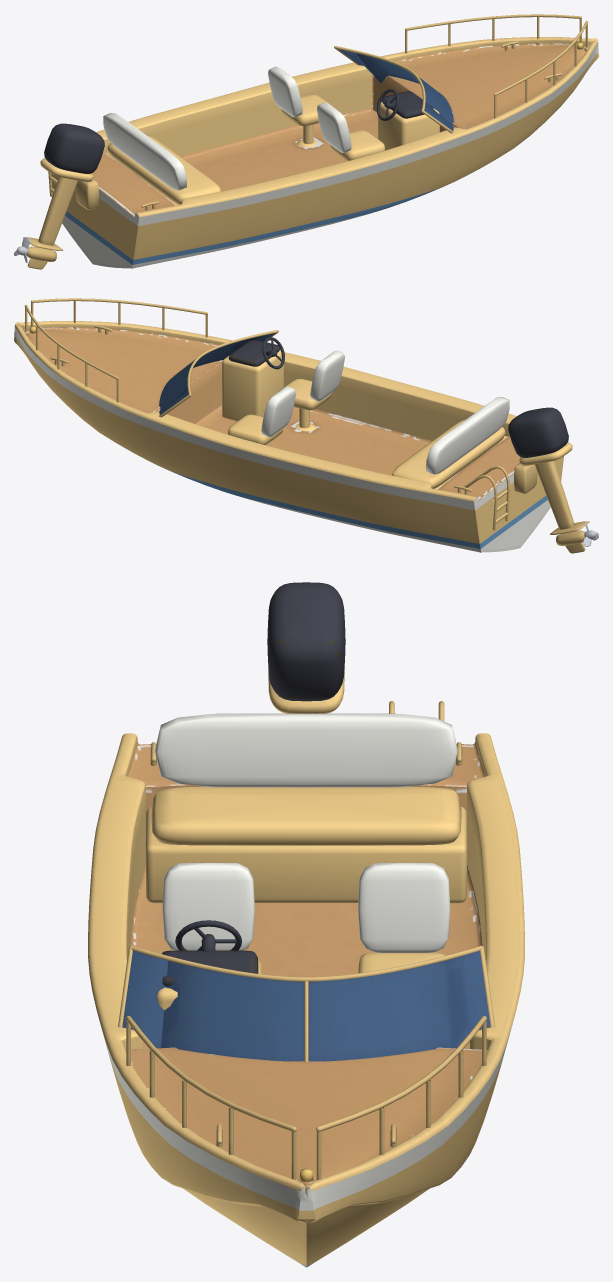
The model's file is lancha-ventura-210-comfort-2014.glb.
The picture shows the model from 3 angles, top to bottom: view 1: azimuth 30°, elevation 25°; view 2: azimuth 150°, elevation 25°; view 3: azimuth 270°, elevation 25°; orthographic projection. The views are drawn at different scales.
Visible parts, largest first — view 1: motorboat_body, motorboat_steering_wheel; view 2: motorboat_body, motorboat_steering_wheel; view 3: motorboat_body, motorboat_steering_wheel.
Part boxes in pixels (x1,y1,x2,y2): motorboat_body: [23, 14, 598, 269]; motorboat_steering_wheel: [376, 89, 399, 120]; motorboat_body: [14, 298, 589, 553]; motorboat_steering_wheel: [262, 337, 284, 369]; motorboat_body: [88, 582, 524, 1267]; motorboat_steering_wheel: [175, 920, 241, 952].
Size of the model in its own units: 6.4 by 1.56 by 2.09.
Materials: 3 (1 with a texture image).
